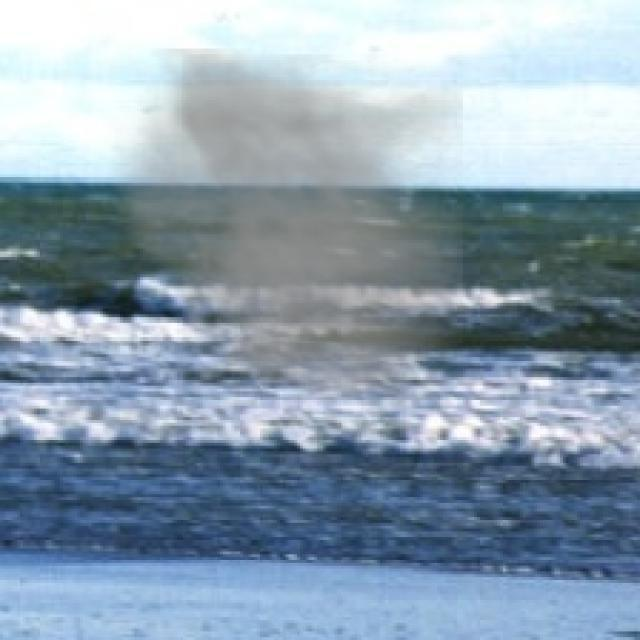Smoke: (100, 49, 463, 408)
